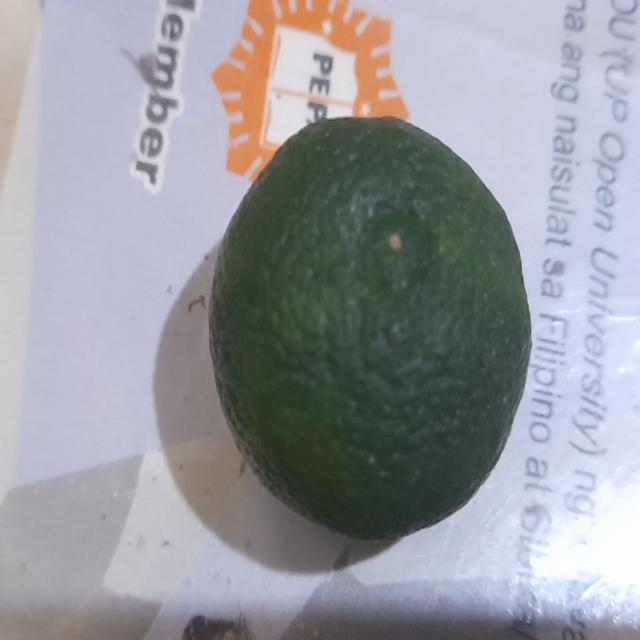heathy: (206, 115, 536, 546)
